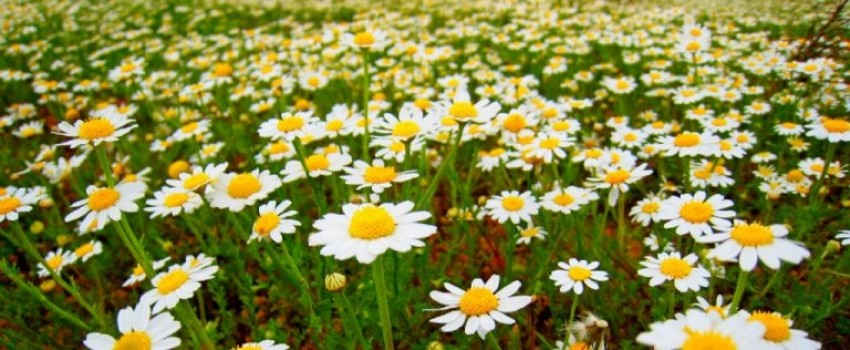papatya: (309, 194, 443, 262)
